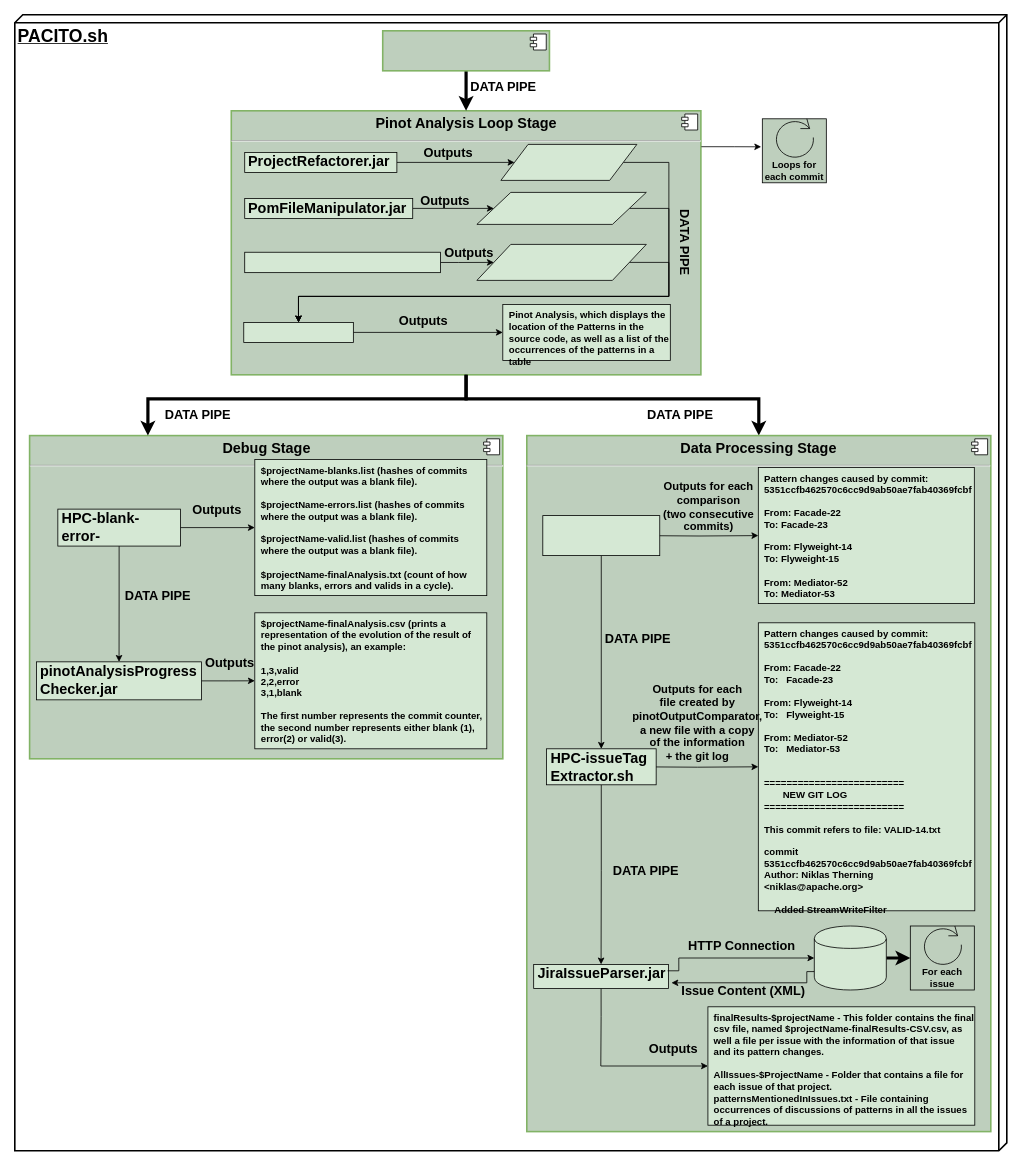
The diagram is 1021 pixels wide and 1165 high, and some of its shapes have lost their labels. The shapes that lost their labels are listed below. From the top down, each one's centre as x and y in pixels, then its label:
the point at 466,50: Create List of Commits
the point at 568,162: Preprocessed version of the project
the point at 561,208: Preprocessed version of the Maven POM file
the point at 342,262: Copy Maven Dependencies
the point at 561,262: Downloads all Maven Dependencies and adds these to the CLASSPATH
the point at 298,332: Pinot Software
the point at 601,535: pinotOutput Comparator.jar
the point at 850,957: JIRA Issue Repository
